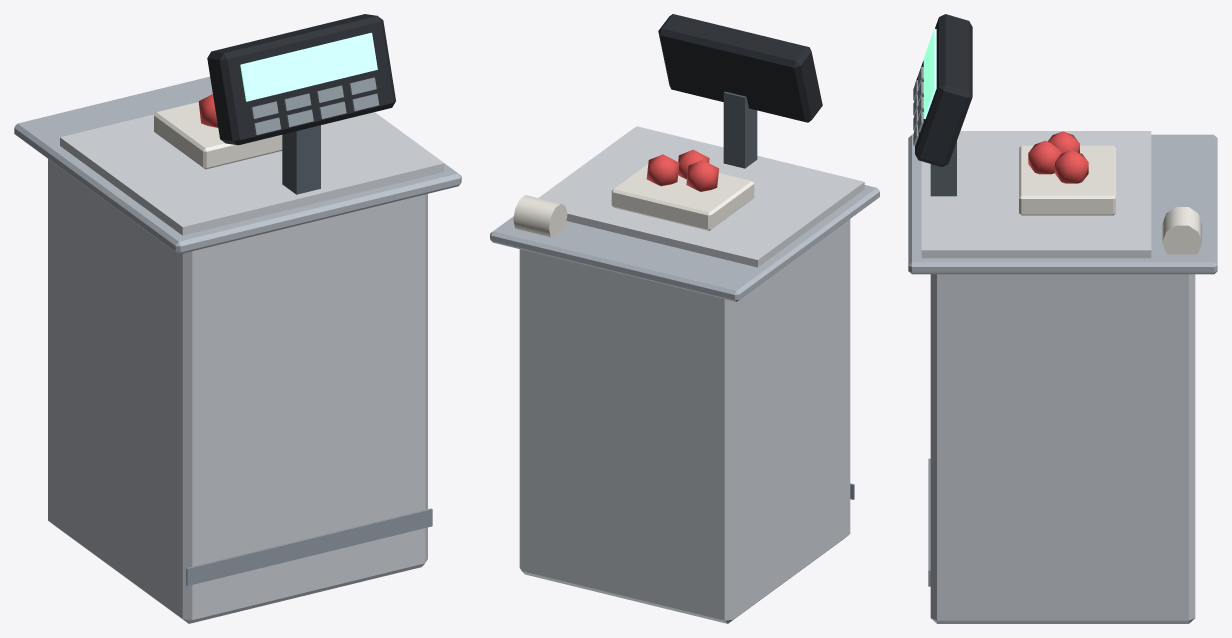
File: digital_scale.glb
The picture shows the model from 3 angles, left to right: view 1: azimuth 30°, elevation 25°; view 2: azimuth 150°, elevation 25°; view 3: azimuth 270°, elevation 25°; orthographic projection. The views are drawn at different scales.
Visible parts, largest first — view 1: digital_scale; view 2: digital_scale; view 3: digital_scale.
Boxes of the visible parts, bbox=[...] form: digital_scale: bbox=[14, 14, 461, 623]; digital_scale: bbox=[490, 14, 879, 623]; digital_scale: bbox=[908, 14, 1217, 623].
Size of the model in its own units: 0.7 by 1.3 by 0.7.
